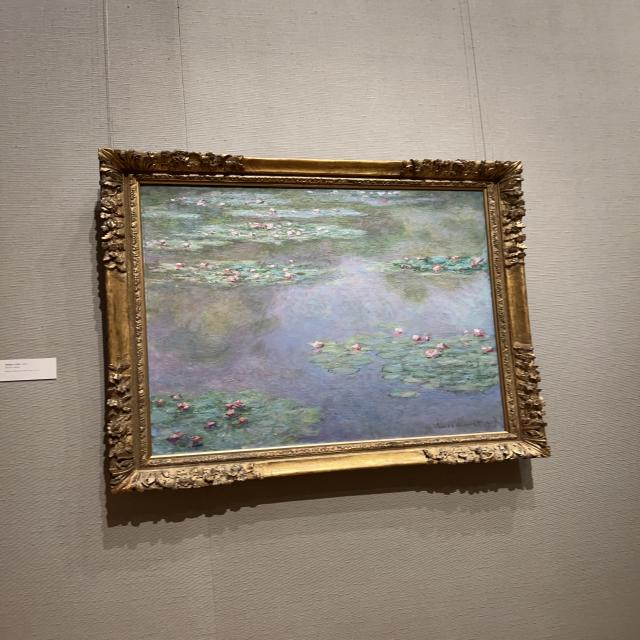lilies: (141, 187, 503, 453)
